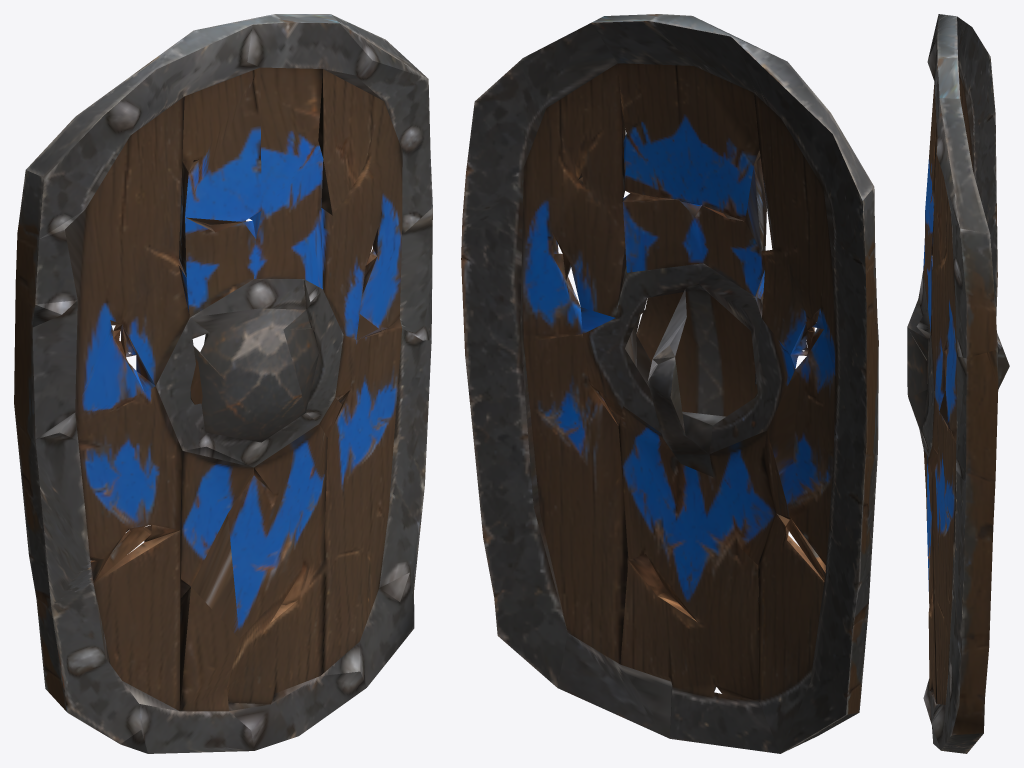
The model's file is w_shield.glb.
3 views of the same model, side by side, from view 1: azimuth 30°, elevation 25°; view 2: azimuth 150°, elevation 25°; view 3: azimuth 270°, elevation 25° (orthographic). The views are drawn at different scales.
Parts seen in each view (by area): view 1: Body; view 2: Body; view 3: Body.
Part boxes in pixels (<box>): Body: <box>14,14,432,753</box>; Body: <box>461,14,878,753</box>; Body: <box>907,14,1009,753</box>.
Bounding box in the file's own units: 0.5298 × 0.8991 × 0.1214.
1 material, 1 textured.
